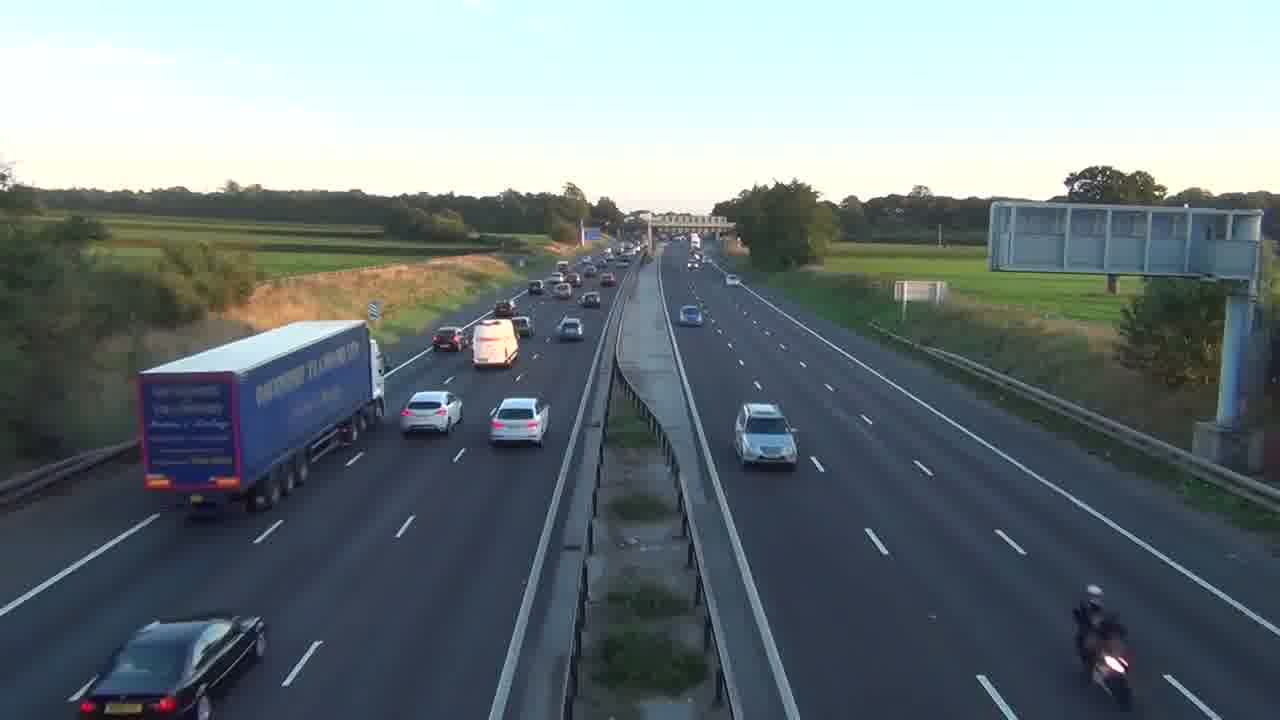car: (733, 400, 800, 470), (486, 395, 551, 448), (399, 389, 463, 437), (551, 315, 584, 342), (512, 314, 534, 338), (680, 305, 704, 326), (578, 291, 601, 308)
motorcycle: (1091, 645, 1134, 708)
truck: (134, 317, 385, 520), (74, 611, 268, 718)
